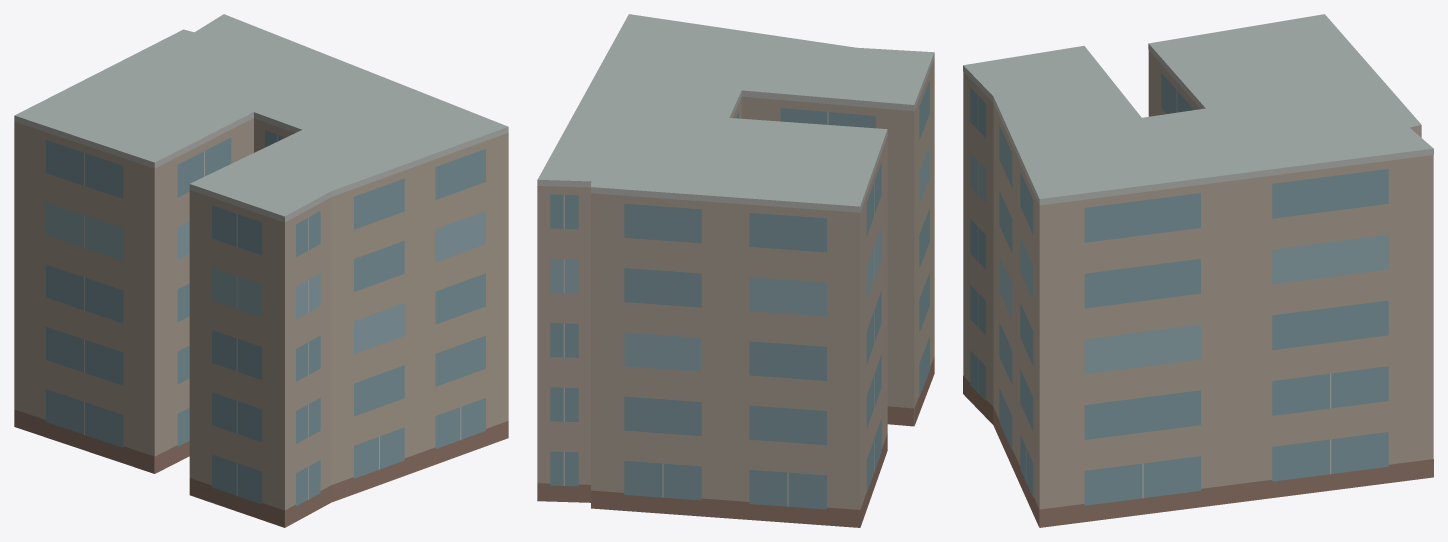
The model's file is survey-upis-32597361.glb.
3 views of the same model, side by side, from view 1: azimuth 30°, elevation 25°; view 2: azimuth 150°, elevation 25°; view 3: azimuth 270°, elevation 25° (orthographic). The views are drawn at different scales.
Parts seen in each view (by area): view 1: survey-upis-32597361.tmp; view 2: survey-upis-32597361.tmp; view 3: survey-upis-32597361.tmp.
Boxes of the visible parts, x1=… form: survey-upis-32597361.tmp: x1=14, y1=14, x2=508, y2=527; survey-upis-32597361.tmp: x1=537, y1=14, x2=934, y2=527; survey-upis-32597361.tmp: x1=963, y1=14, x2=1433, y2=527.
Bounding box in the file's own units: 15.35 × 12.7 × 16.49.
